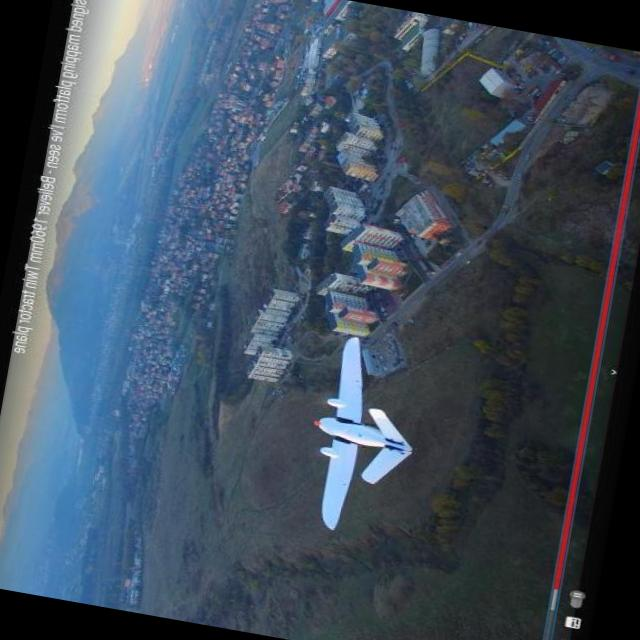UAV: (304, 336, 414, 517)
